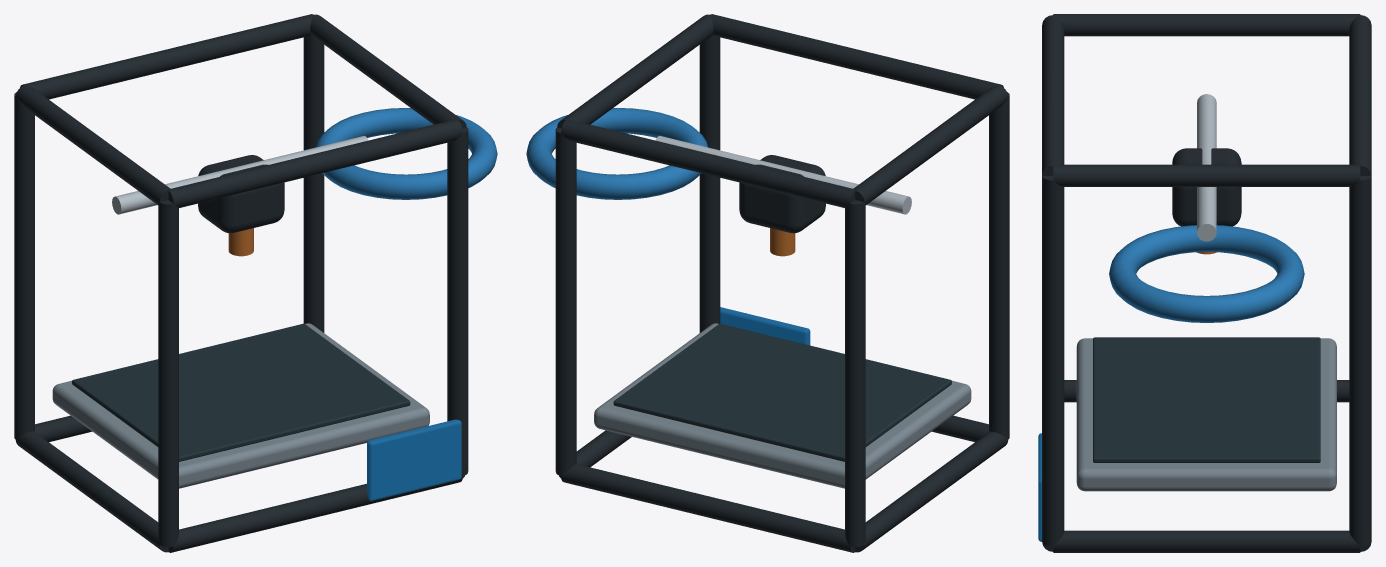
File: 3d-printer.glb
3 renders of one model, left to right at view 1: azimuth 30°, elevation 25°; view 2: azimuth 150°, elevation 25°; view 3: azimuth 270°, elevation 25°, orthographic. The views are drawn at different scales.
Parts seen in each view (by area): view 1: Premium enclosed FDM 3D printer, Textured build plate, Heated print bed, Touch display, Direct-drive print head, Brass nozzle; view 2: Premium enclosed FDM 3D printer, Textured build plate, Heated print bed, Direct-drive print head, Touch display, Brass nozzle; view 3: Premium enclosed FDM 3D printer, Textured build plate, Heated print bed, Direct-drive print head, Touch display.
Part boxes in pixels (<box>): Premium enclosed FDM 3D printer: <box>14,14,497,552</box>; Textured build plate: <box>72,323,410,461</box>; Heated print bed: <box>52,323,429,488</box>; Touch display: <box>367,419,461,500</box>; Direct-drive print head: <box>198,155,284,233</box>; Brass nozzle: <box>228,228,253,256</box>; Premium enclosed FDM 3D printer: <box>526,14,1009,552</box>; Textured build plate: <box>613,323,951,461</box>; Heated print bed: <box>594,323,971,488</box>; Direct-drive print head: <box>739,155,825,233</box>; Touch display: <box>720,307,810,345</box>; Brass nozzle: <box>770,228,795,256</box>; Premium enclosed FDM 3D printer: <box>1042,14,1371,552</box>; Textured build plate: <box>1093,337,1320,462</box>; Heated print bed: <box>1076,338,1336,491</box>; Direct-drive print head: <box>1172,148,1241,226</box>; Touch display: <box>1038,433,1041,541</box>.
Bounding box in the file's own units: 1.98 × 1.72 × 1.35.
